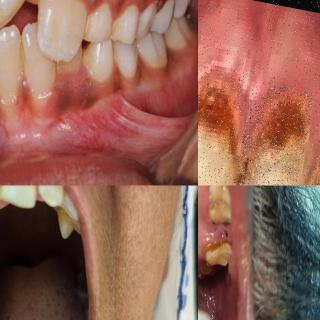Gum Swelling: (0, 73, 58, 111)
cavities: (249, 86, 317, 186), (198, 66, 248, 186)
maligned: (36, 0, 86, 60), (21, 18, 53, 92), (52, 33, 86, 91), (0, 22, 22, 94), (0, 0, 28, 35), (13, 190, 44, 214)
stains: (206, 236, 230, 266), (52, 206, 76, 234), (27, 186, 44, 200), (0, 185, 6, 206)
